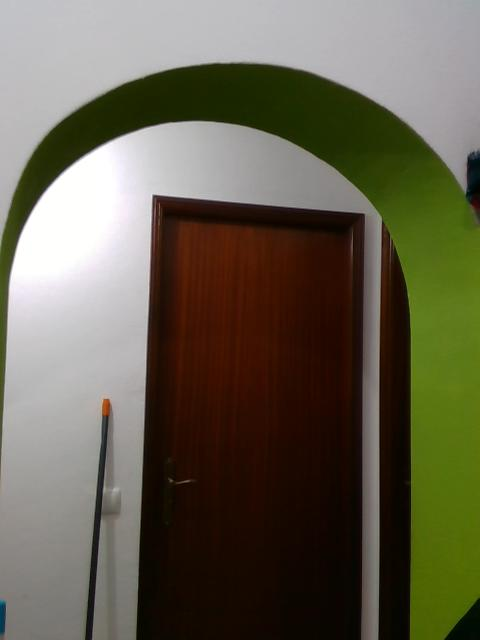door: (158, 213, 353, 637)
